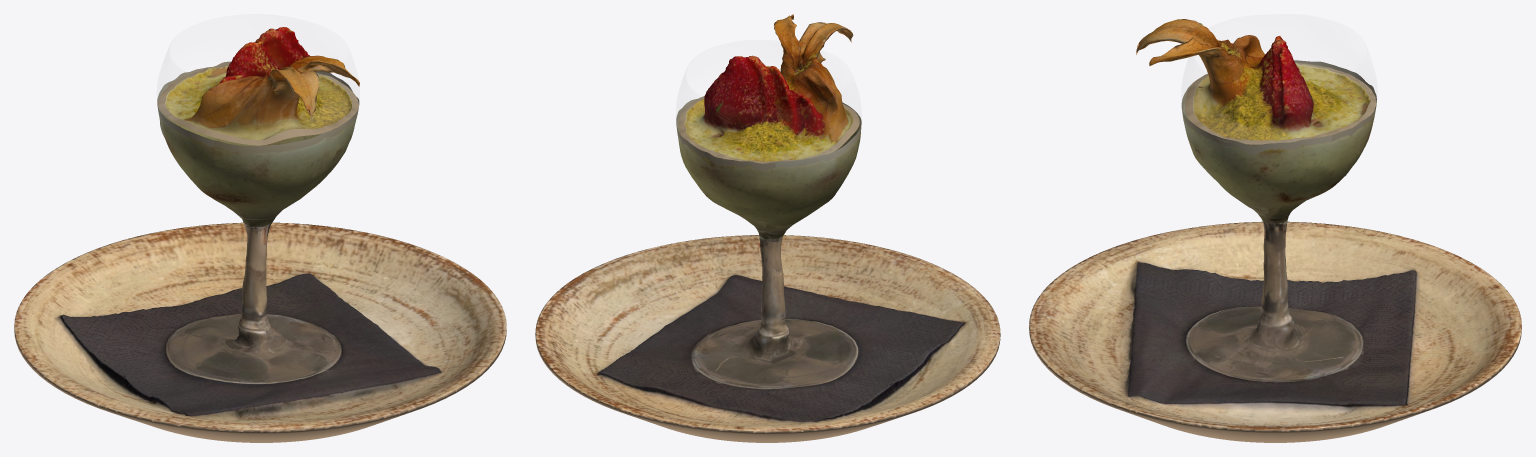
Rendered from platoB.glb.
3 views of the same model, side by side, from view 1: azimuth 30°, elevation 25°; view 2: azimuth 150°, elevation 25°; view 3: azimuth 270°, elevation 25° (orthographic). The views are drawn at different scales.
Parts seen in each view (by area): view 1: Mesh_008; view 2: Mesh_008; view 3: Mesh_008.
Boxes of the visible parts, <box> form: Mesh_008: <box>14,27,506,442</box>; Mesh_008: <box>535,14,1000,442</box>; Mesh_008: <box>1029,19,1521,442</box>.
Size of the model in its own units: 0.2177 by 0.1649 by 0.2177.
Materials: 3 (2 with a texture image).
